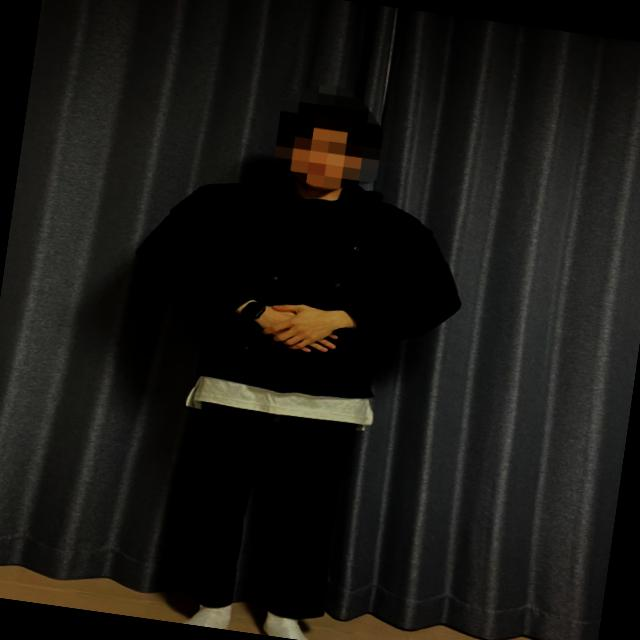padding: (123, 160, 474, 392)
slacks: (178, 396, 361, 627)
